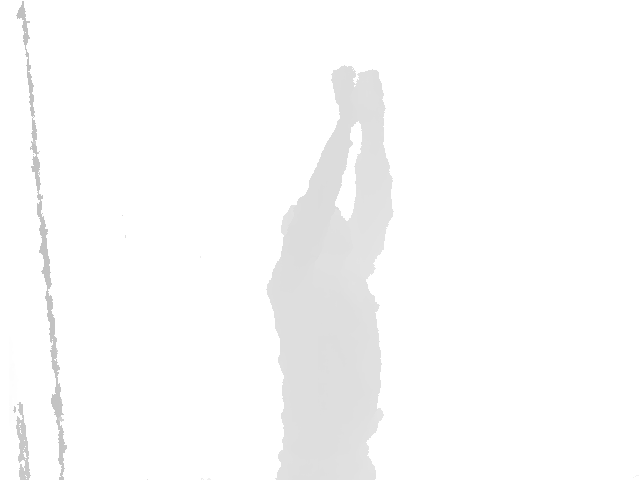hand: (352, 69, 385, 133), (331, 66, 362, 129)
head: (283, 195, 351, 269)
person: (266, 66, 394, 480)
